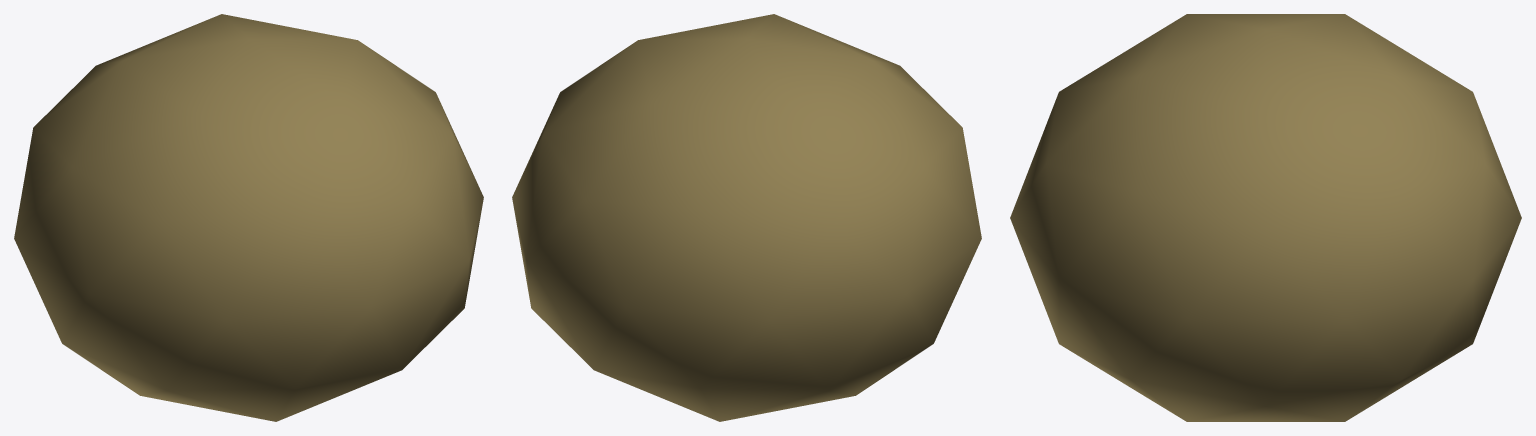
Rendered from BatataSemente.fbx.
The picture shows the model from 3 angles, left to right: view 1: azimuth 30°, elevation 25°; view 2: azimuth 150°, elevation 25°; view 3: azimuth 270°, elevation 25°; orthographic projection. The views are drawn at different scales.
Parts seen in each view (by area): view 1: BatataSemente; view 2: BatataSemente; view 3: BatataSemente.
Part boxes in pixels (left/top/right/bottom): BatataSemente: left=14, top=14, right=483, bottom=421; BatataSemente: left=512, top=14, right=981, bottom=421; BatataSemente: left=1010, top=14, right=1521, bottom=421.
Bounding box in the file's own units: 2.94 × 2.55 × 3.15.
